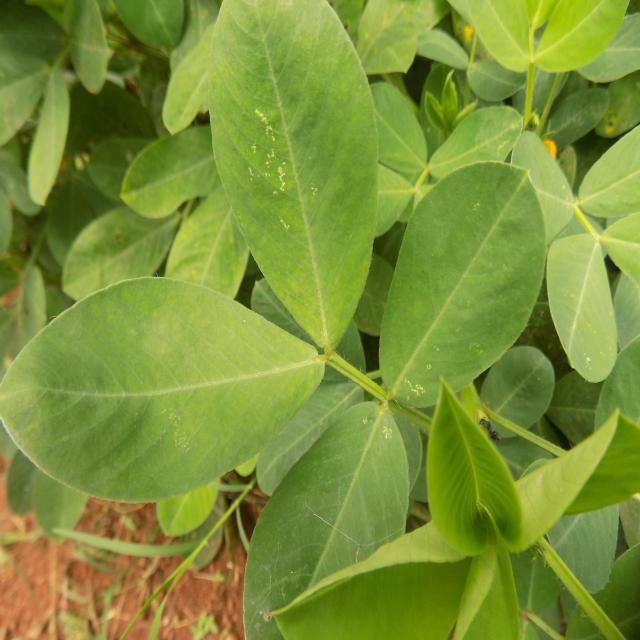Ground nut_healthy: (5, 277, 321, 518), (206, 0, 384, 347), (240, 383, 411, 640), (373, 168, 550, 404)
